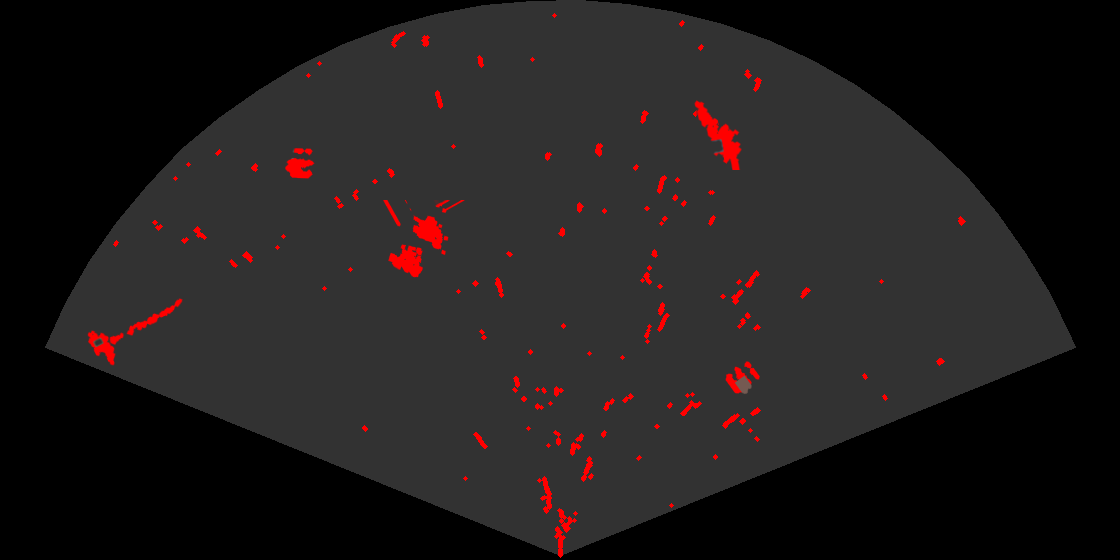AUV: (86, 329, 117, 367)
ball: (724, 360, 761, 395), (284, 147, 316, 180)
cage: (382, 200, 466, 279)
chain: (103, 297, 184, 348)
frogman: (693, 99, 743, 170)
